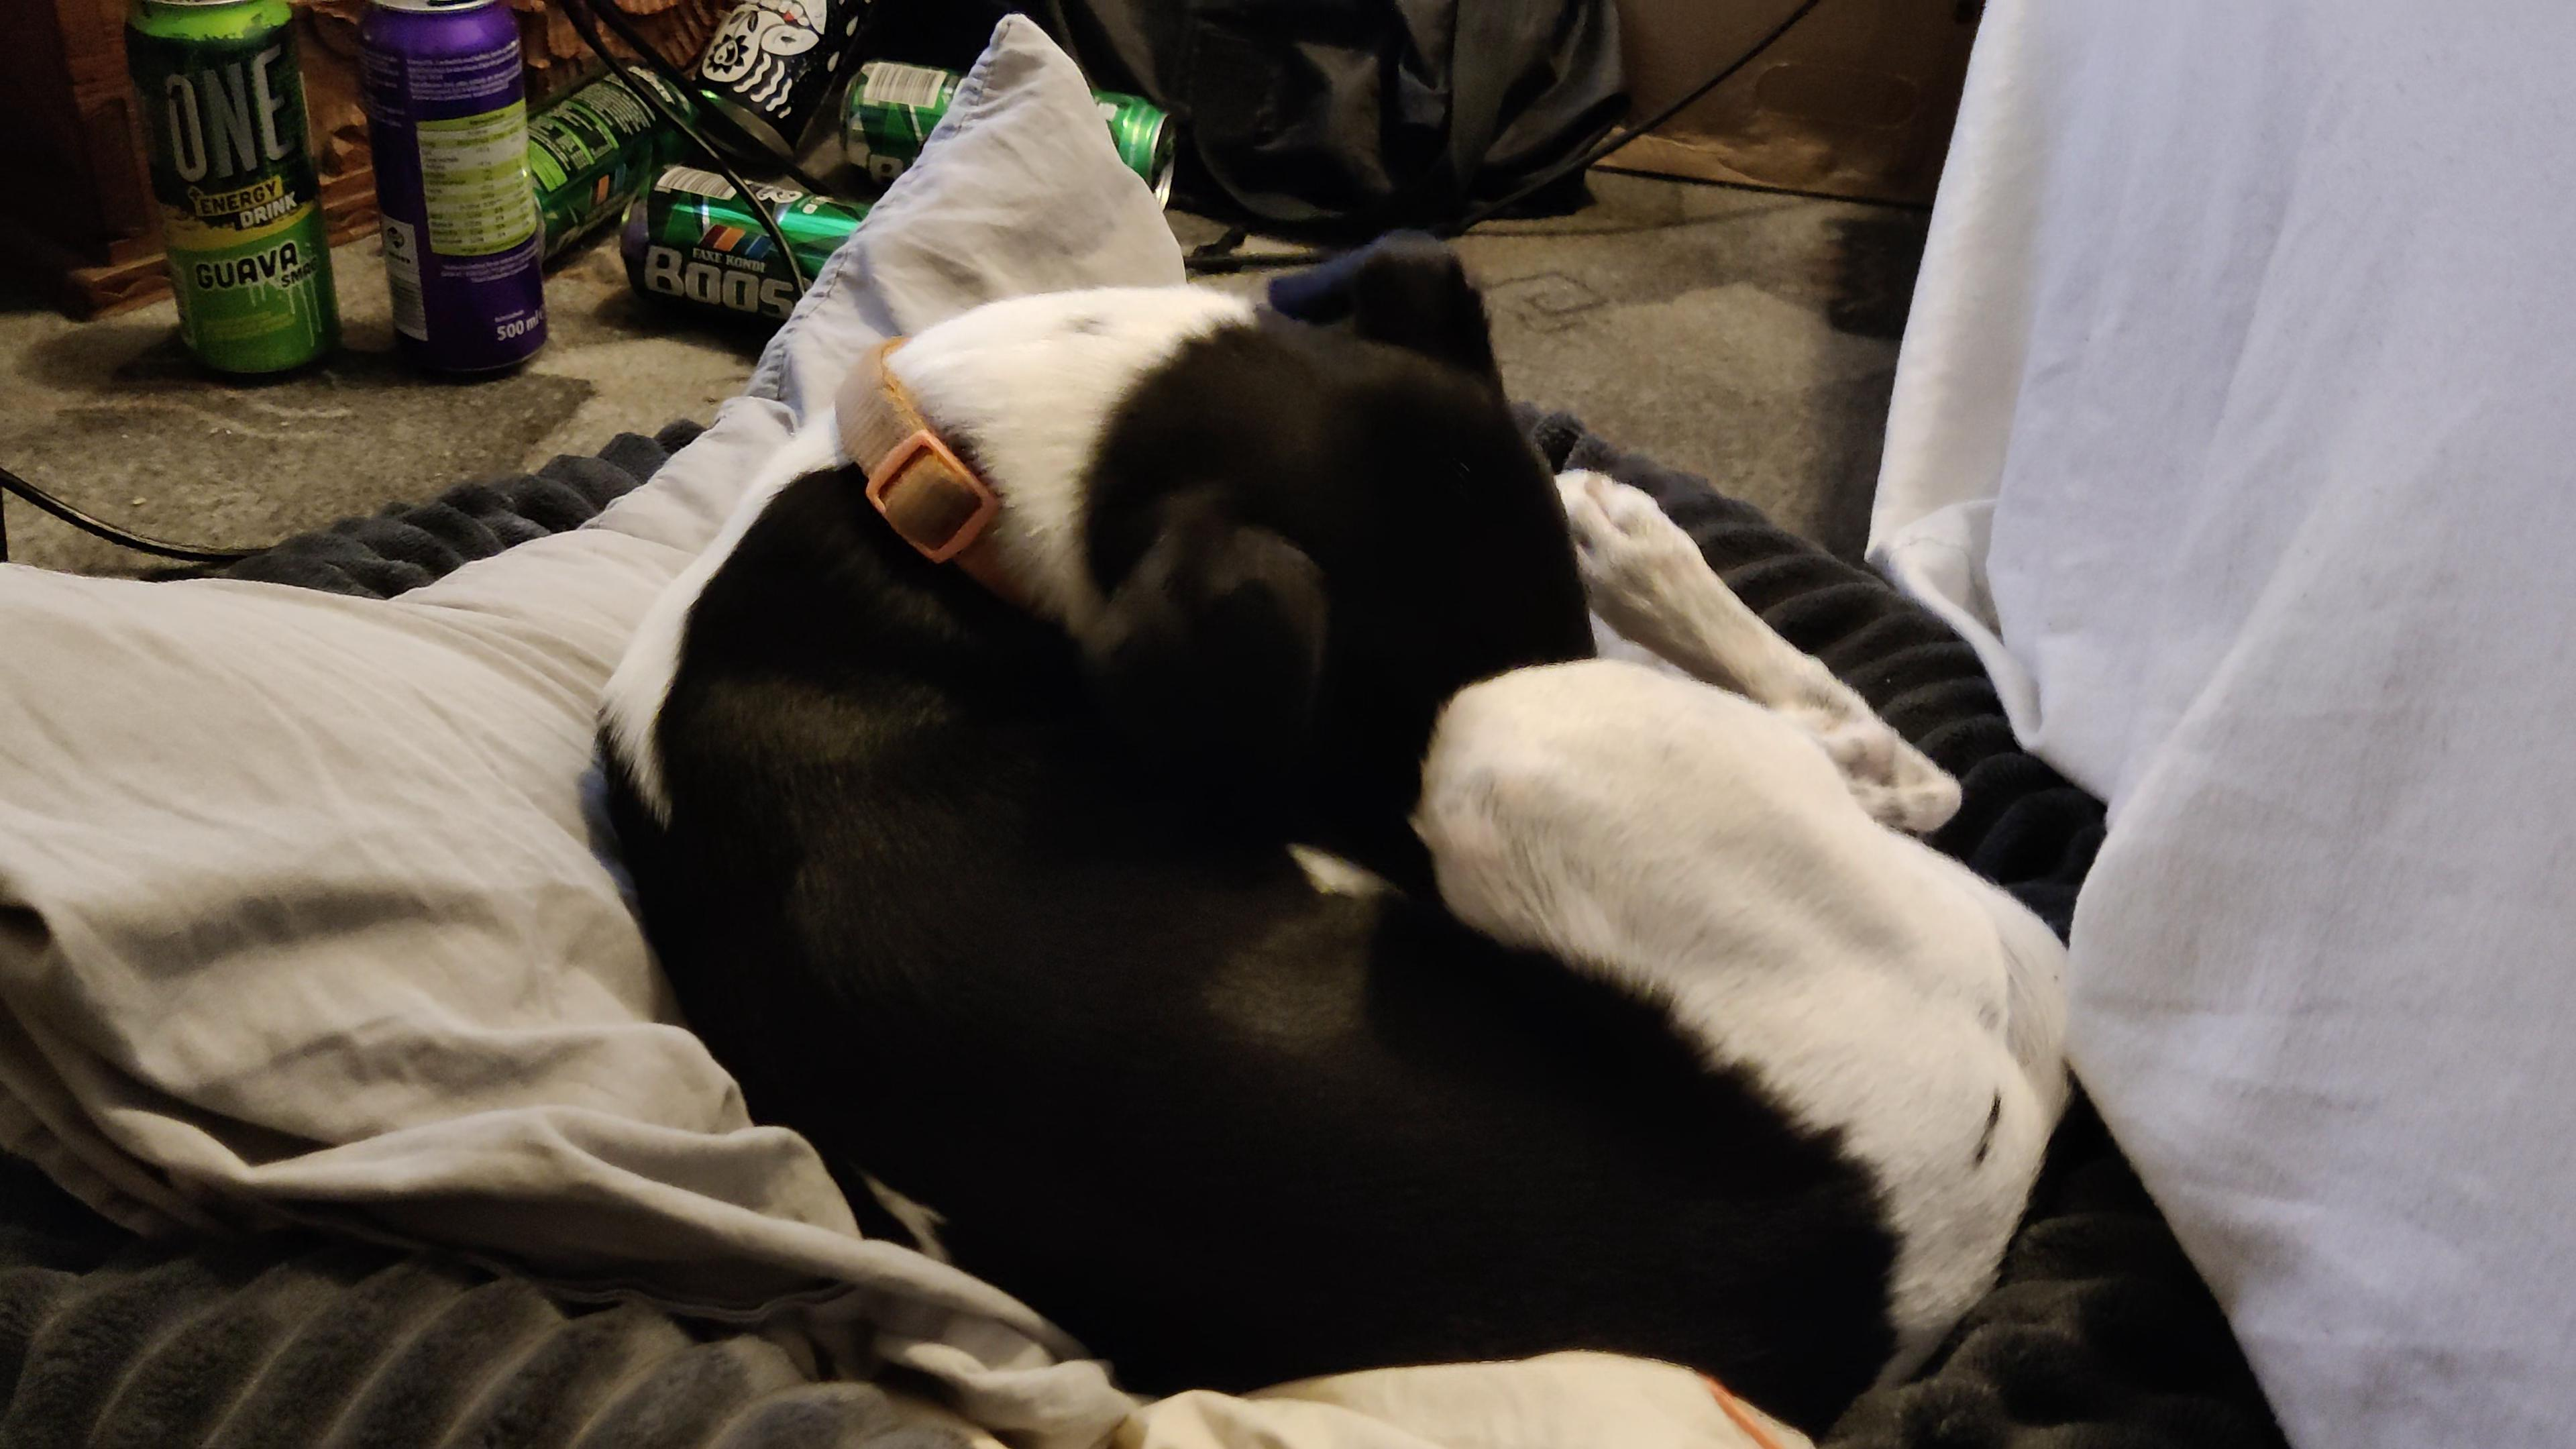Dog: (582, 195, 2134, 1445)
